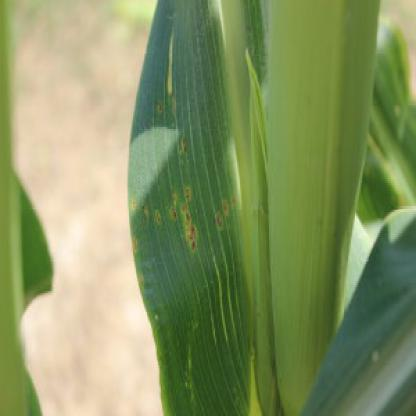corn rust leaf: (128, 6, 259, 414)
